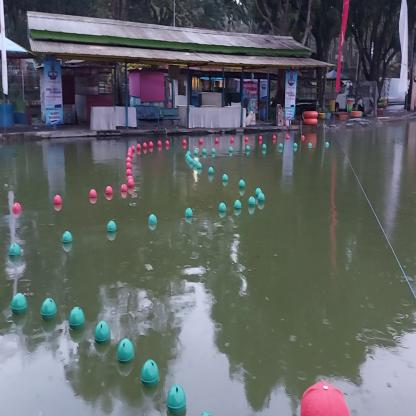green_buoy: (166, 383, 186, 413), (140, 360, 160, 386), (117, 338, 135, 364), (95, 320, 110, 344), (41, 298, 57, 320), (69, 307, 85, 329), (12, 293, 28, 314), (9, 244, 21, 260), (61, 232, 73, 244), (107, 220, 116, 233), (248, 196, 256, 207), (149, 214, 157, 225), (234, 200, 242, 210), (185, 208, 193, 218), (258, 193, 265, 203), (219, 202, 226, 212), (256, 188, 262, 198), (239, 180, 245, 188), (223, 174, 228, 181), (208, 168, 214, 173), (189, 158, 193, 164), (193, 161, 197, 167), (198, 164, 202, 170)
red_buoy: (12, 202, 22, 212), (105, 185, 114, 195), (89, 189, 97, 199), (54, 195, 62, 204), (128, 179, 134, 188), (121, 184, 127, 192), (148, 141, 154, 148), (126, 162, 131, 170), (126, 169, 131, 177), (142, 142, 147, 149), (126, 157, 131, 164), (128, 175, 132, 182), (182, 139, 186, 145), (137, 144, 141, 150), (131, 146, 135, 152), (128, 152, 132, 158), (165, 140, 169, 145), (158, 141, 162, 146)
